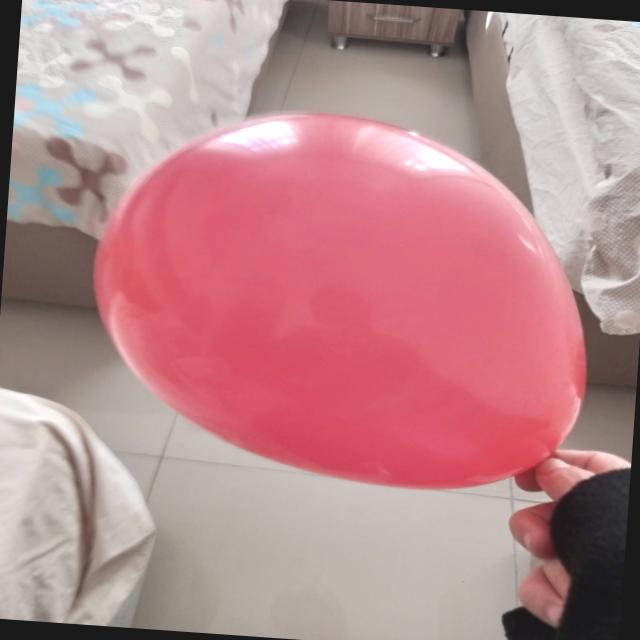balloon: (95, 114, 586, 488)
